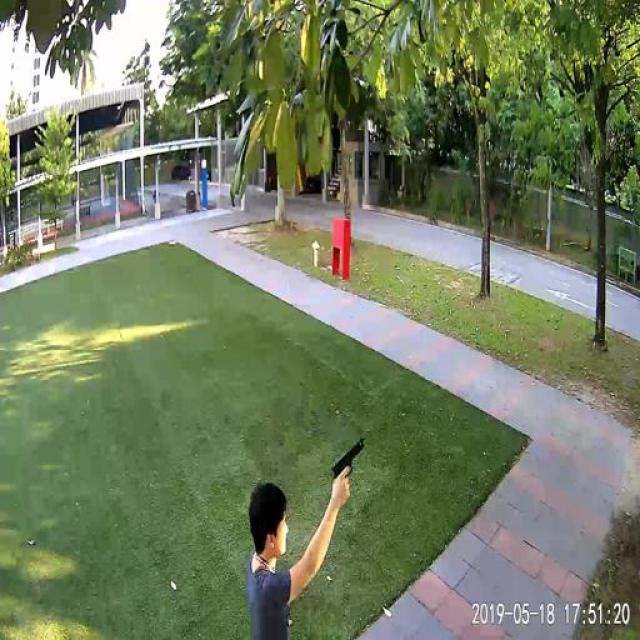Gun: (330, 434, 361, 475)
